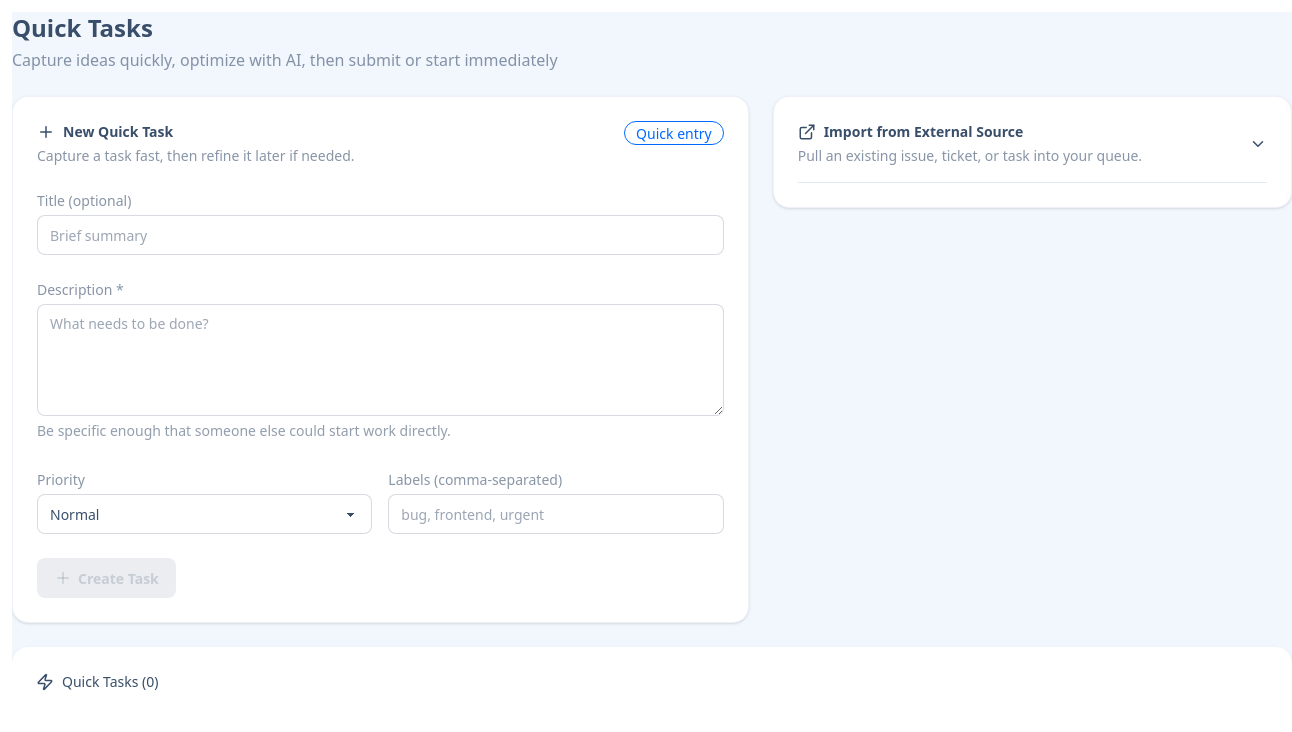
Quick page › expands source import form when clicked
Click the heading "Import from External Source": (911, 132) [798,122,1023,141]
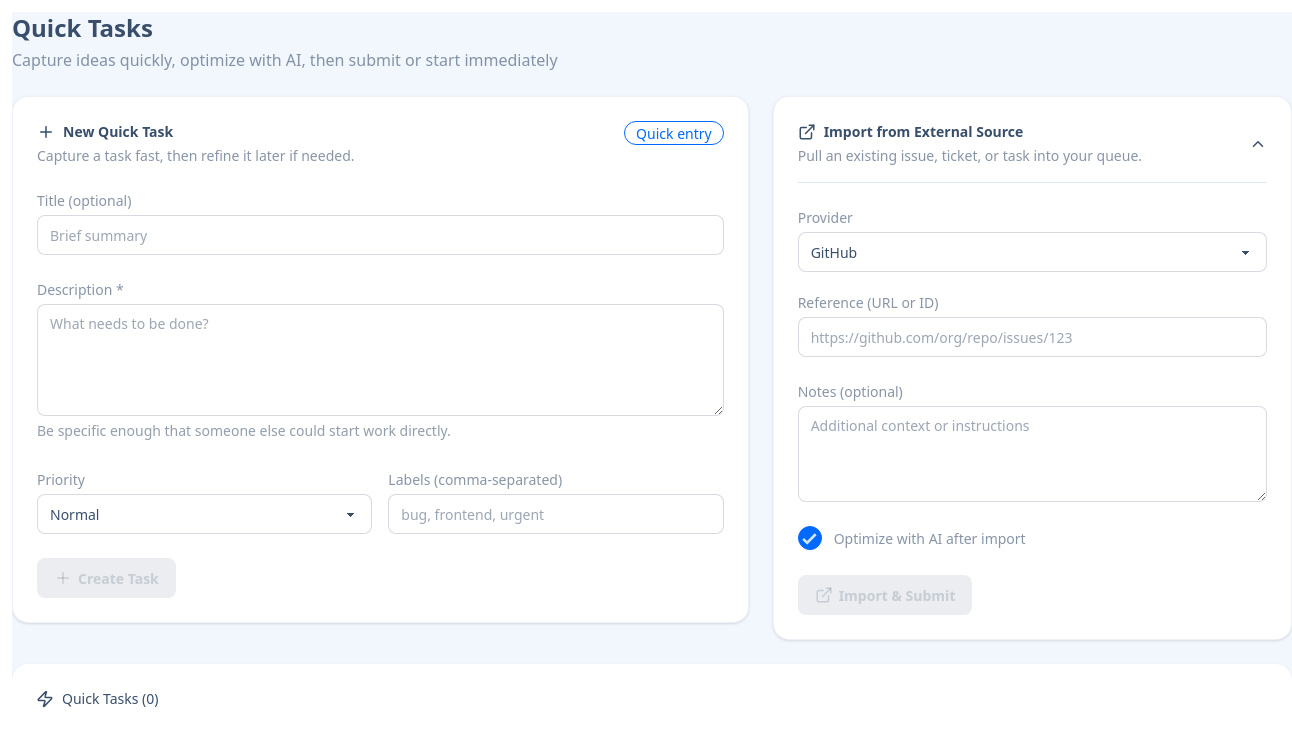
Check: the field with placeholder "https://github.com/org/repo/issues/123" is shown, box [798,317,1267,357]
